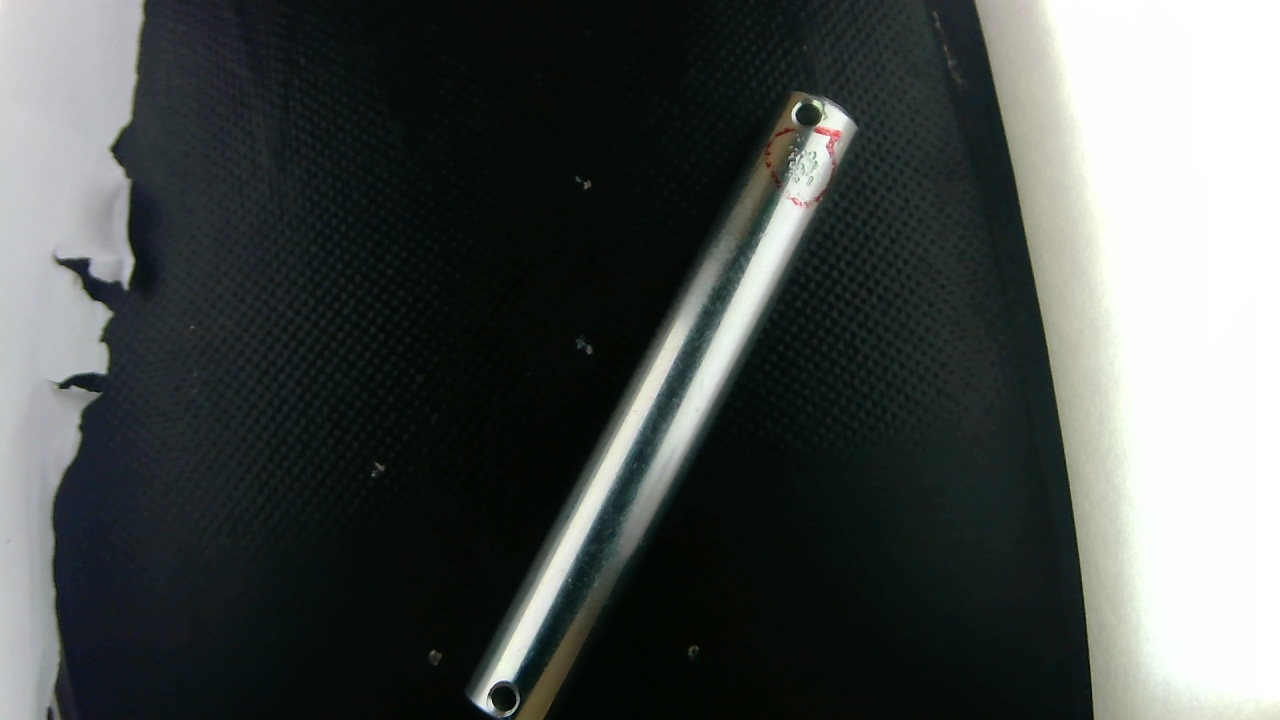pitmark_pin: (787, 138, 820, 189)
